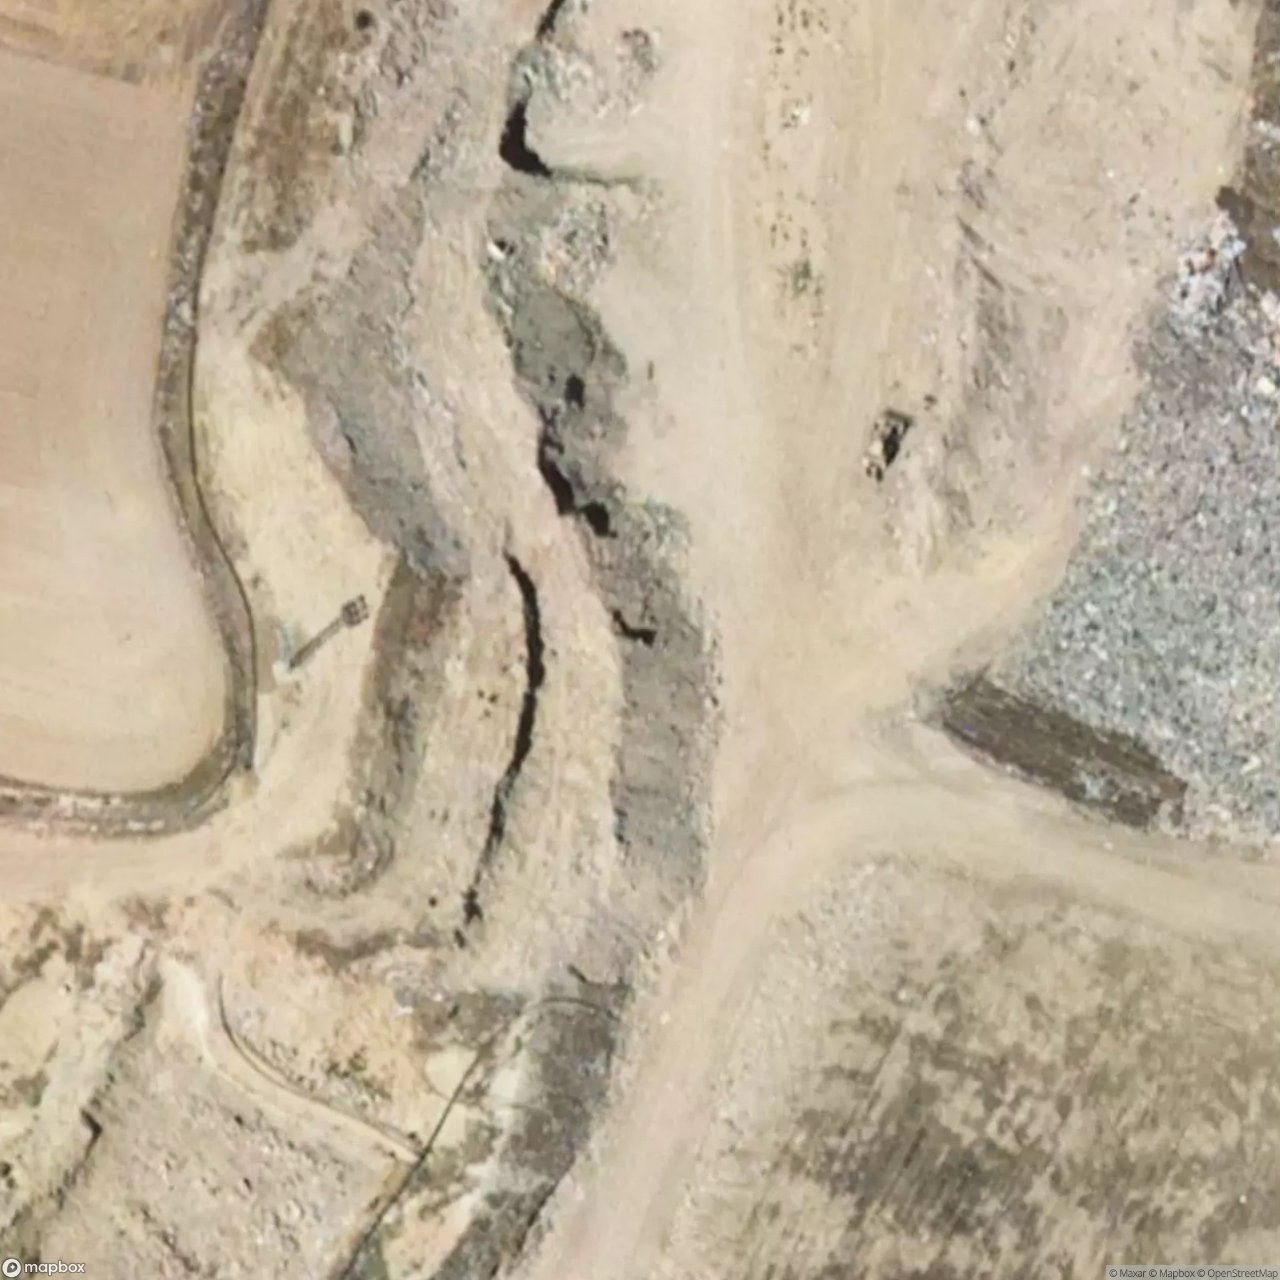dump_site: (946, 181, 1279, 865)
